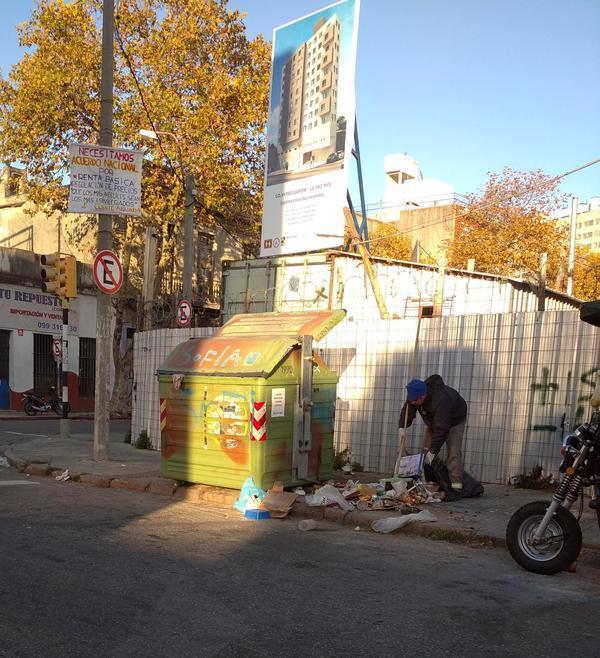Dechets: (234, 478, 434, 533), (345, 476, 440, 512), (331, 439, 361, 477), (53, 466, 74, 489)
Trash: (157, 310, 345, 489)
